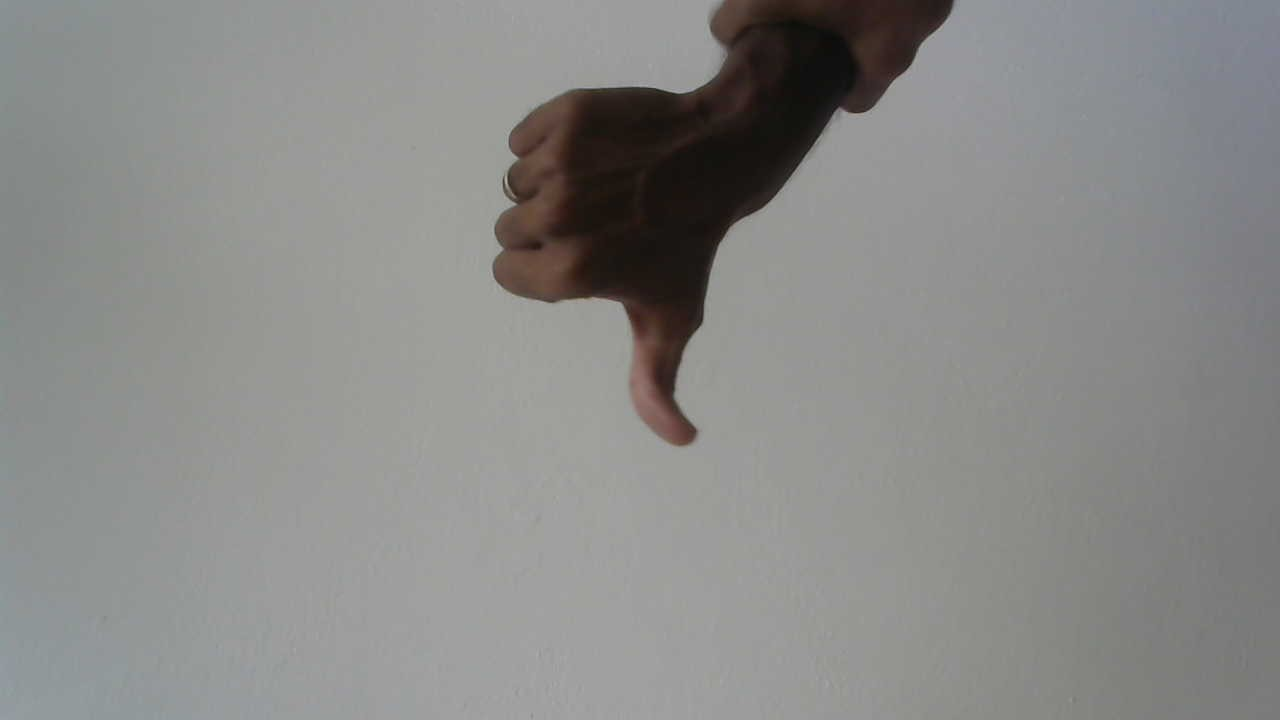thumbsdown: (478, 70, 769, 465)
